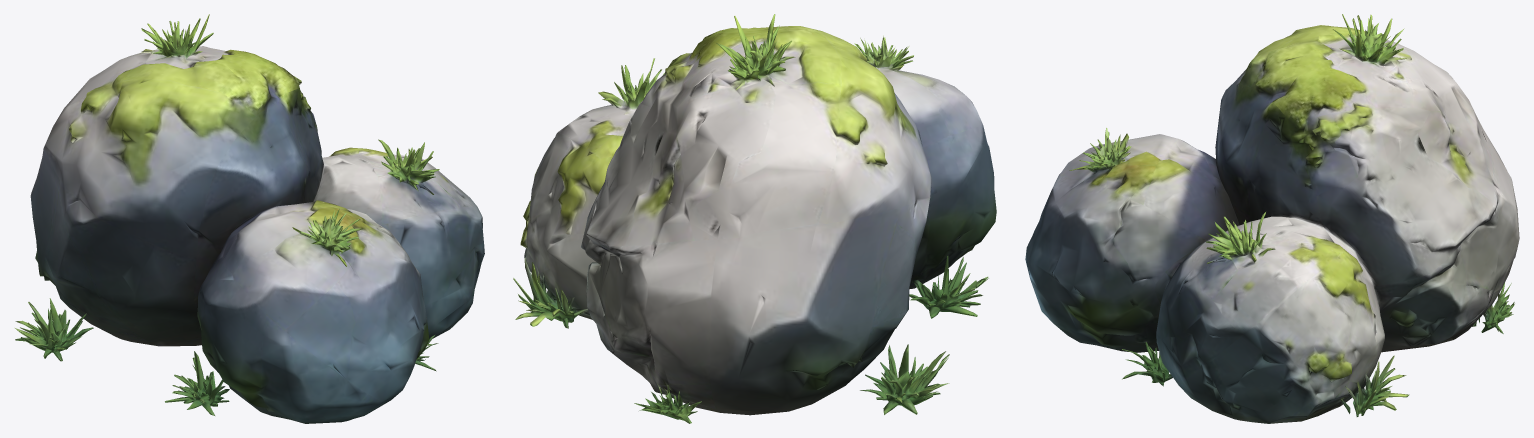
File: rocks-high.glb
3 renders of one model, left to right at view 1: azimuth 30°, elevation 25°; view 2: azimuth 150°, elevation 25°; view 3: azimuth 270°, elevation 25°, orthographic. The views are drawn at different scales.
Visible parts, largest first — view 1: tripo_node_877fe8c3-746c-47d7-b5fc-5a669d12636c; view 2: tripo_node_877fe8c3-746c-47d7-b5fc-5a669d12636c; view 3: tripo_node_877fe8c3-746c-47d7-b5fc-5a669d12636c.
Boxes of the visible parts, x1,y1,x2,y2 form: tripo_node_877fe8c3-746c-47d7-b5fc-5a669d12636c: (15,14,484,423); tripo_node_877fe8c3-746c-47d7-b5fc-5a669d12636c: (513,14,996,423); tripo_node_877fe8c3-746c-47d7-b5fc-5a669d12636c: (1025,14,1519,423).
Bounding box in the file's own units: 0.9301 × 0.6792 × 0.9987.
1 material, 1 textured.
